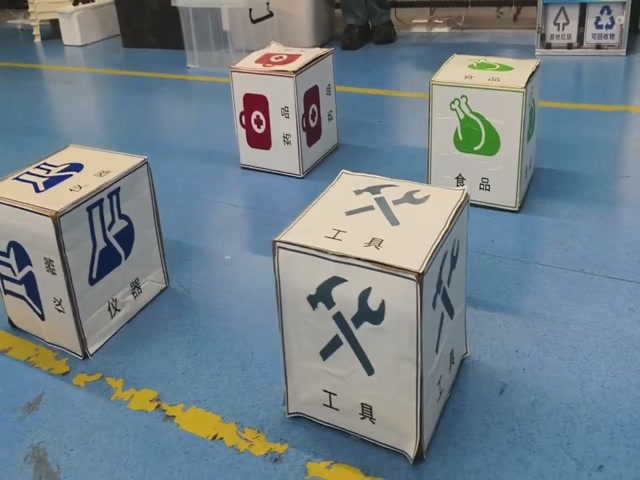Cube_food: (432, 56, 529, 90)
Cube_ins: (0, 141, 148, 218)
Cube_medicine: (230, 46, 332, 77)
Cube_tool: (272, 164, 471, 278)
